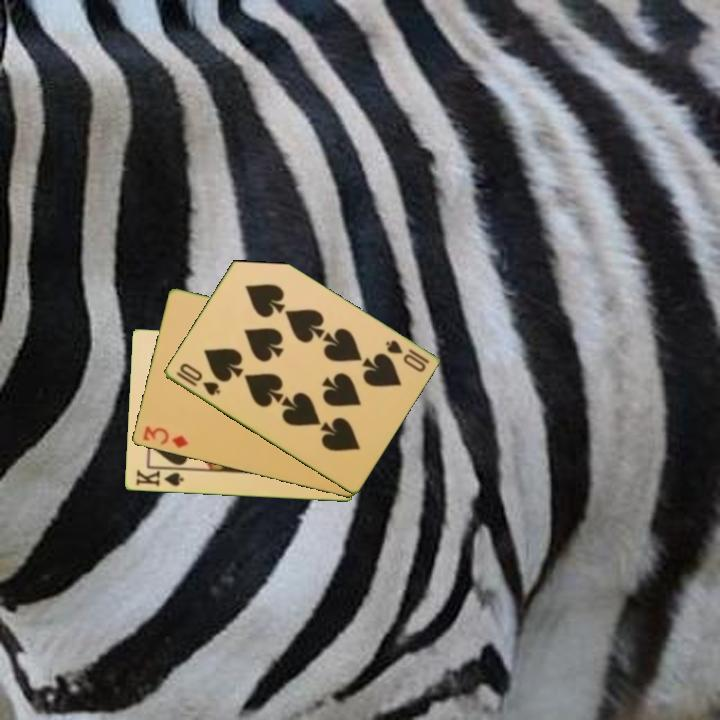10s: (172, 360, 223, 399), (382, 336, 432, 375)
3d: (139, 423, 191, 451)
Ks: (132, 465, 187, 490)
